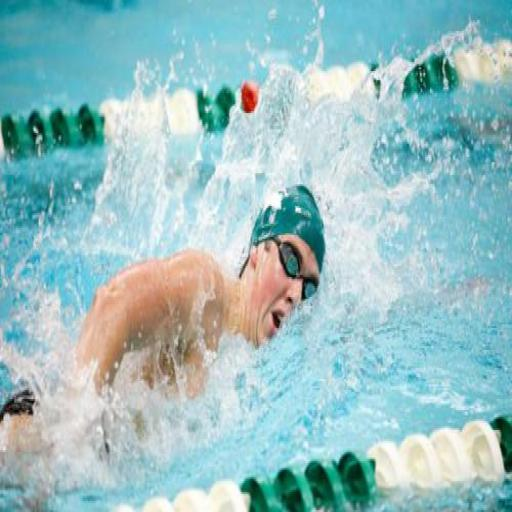swimming: (0, 180, 328, 492)
